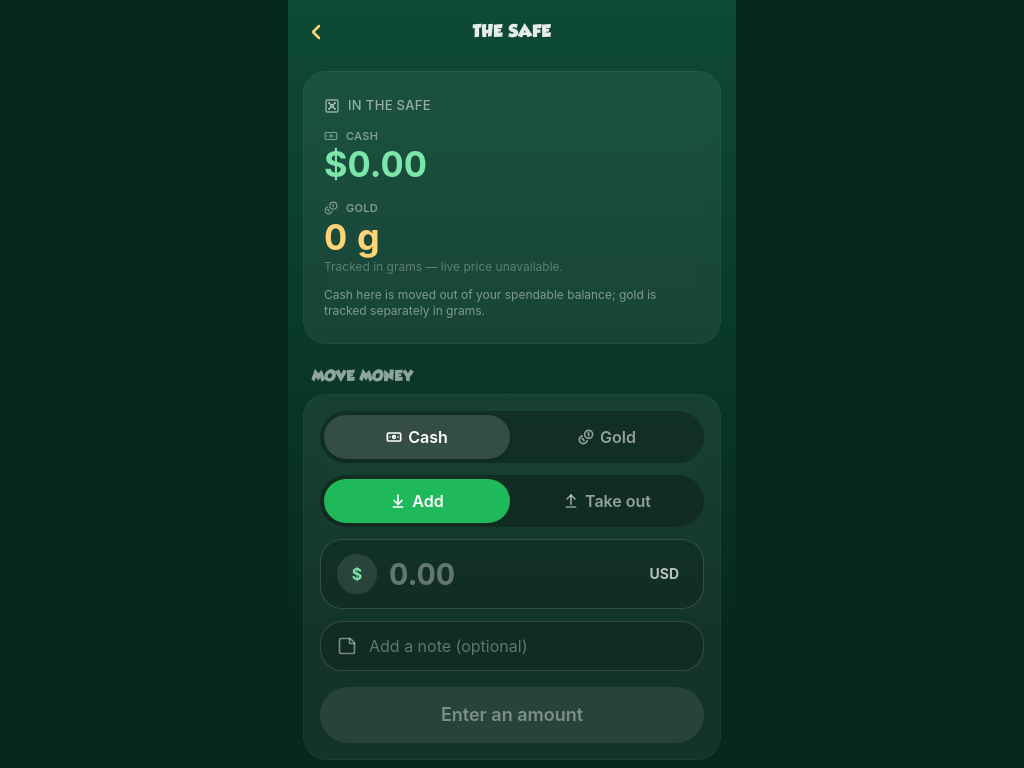
Scenario: Safe › toggles the currency back and forth
The image size is (1024, 768).
Click the button with aria-label "Switch currency" at {"x": 664, "y": 574}, box x1=642 y1=560 x2=687 y2=588
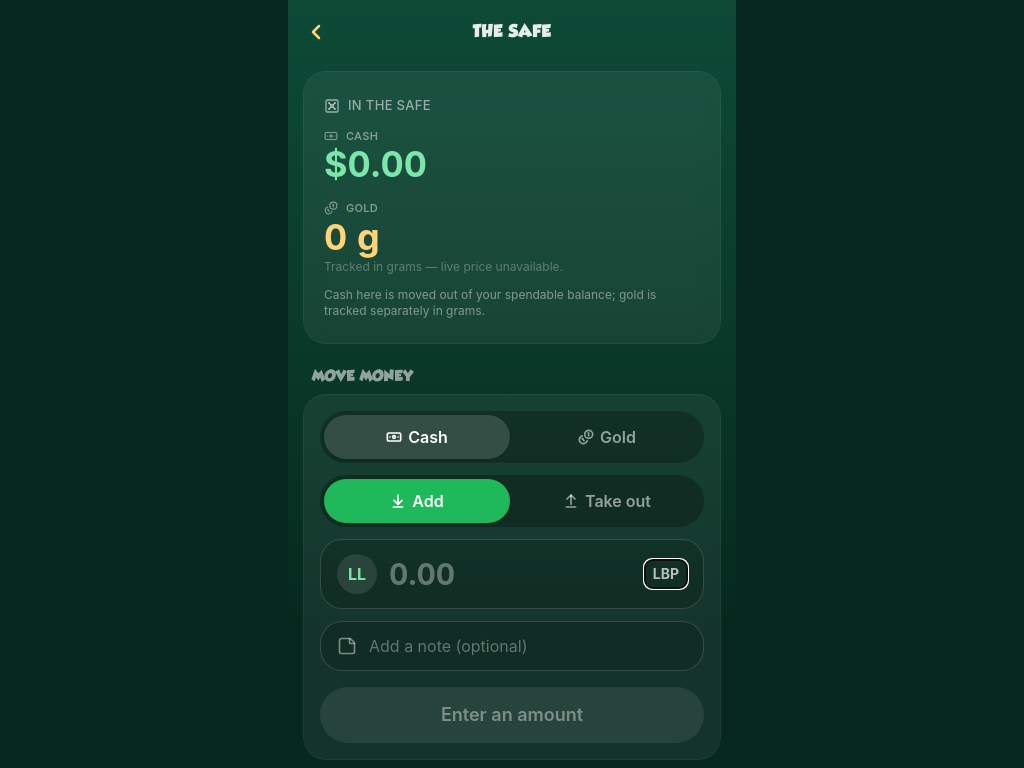
Result: the button with aria-label "Switch currency" reads "LBP"
Click the button with aria-label "Switch currency" at {"x": 666, "y": 574}, box x1=645 y1=560 x2=687 y2=588
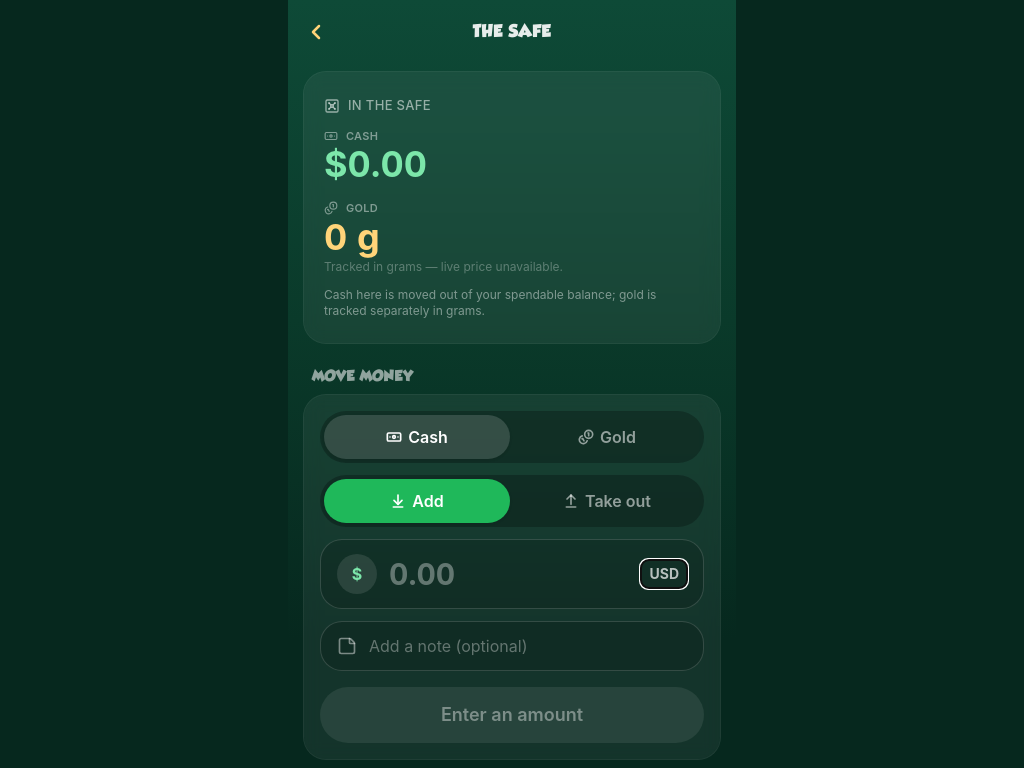
Result: the button with aria-label "Switch currency" reads "USD" at x1=642 y1=560 x2=687 y2=588
